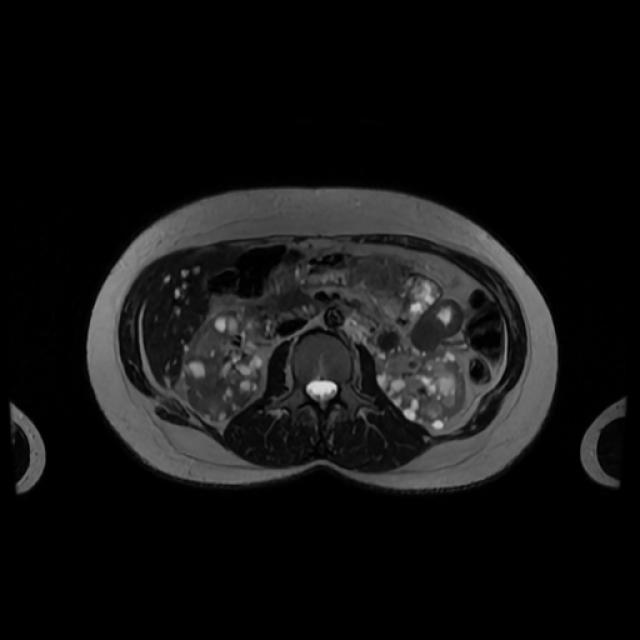sag: (184, 310, 264, 422)
sol: (374, 346, 469, 430)
